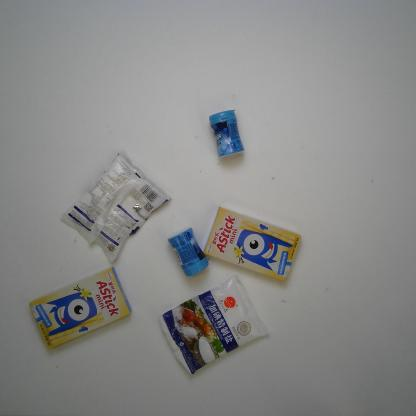Dessert: (26, 266, 132, 350), (201, 204, 302, 284)
Gum: (167, 227, 211, 278), (209, 108, 244, 159)
Seasoner: (61, 146, 171, 265), (157, 270, 276, 377)
